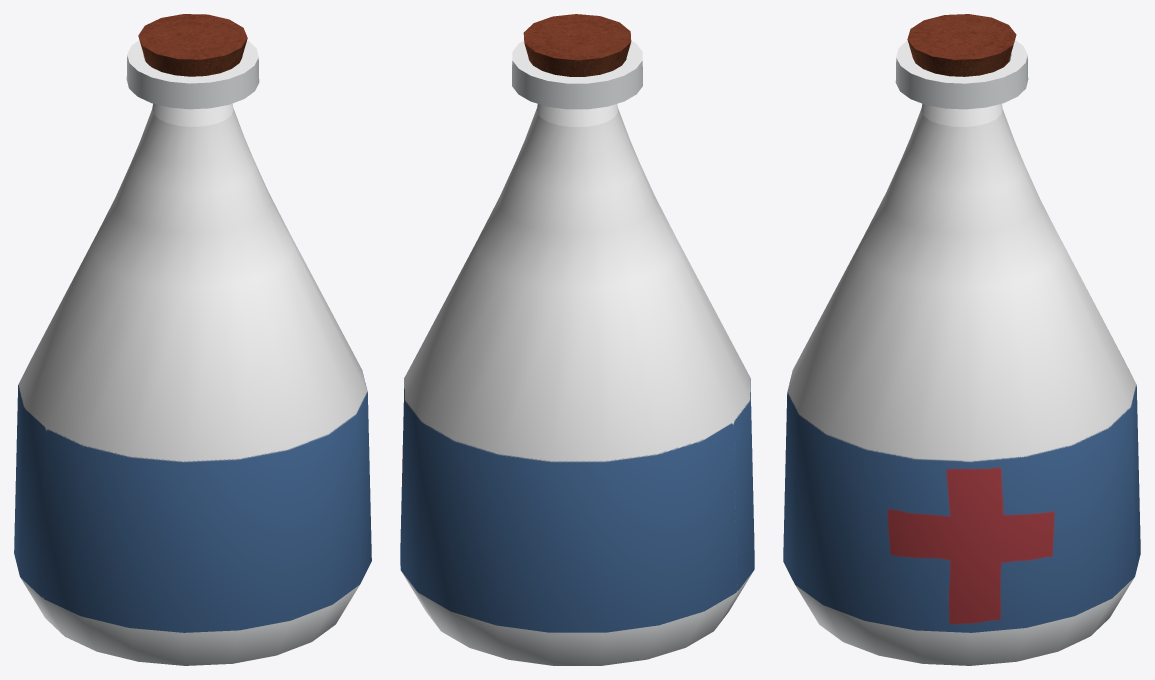
Rendered from Small potion bottle.fbx.
The picture shows the model from 3 angles, left to right: view 1: azimuth 30°, elevation 25°; view 2: azimuth 150°, elevation 25°; view 3: azimuth 270°, elevation 25°; orthographic projection.
Visible parts, largest first — view 1: Potion_Bottle; view 2: Potion_Bottle; view 3: Potion_Bottle.
Boxes of the visible parts, x1,y1,x2,y2 form: Potion_Bottle: (14, 14, 371, 665); Potion_Bottle: (400, 14, 754, 665); Potion_Bottle: (783, 14, 1140, 665).
Bounding box in the file's own units: 1.91 × 3.33 × 1.91.
Materials: 1 (1 with a texture image).
